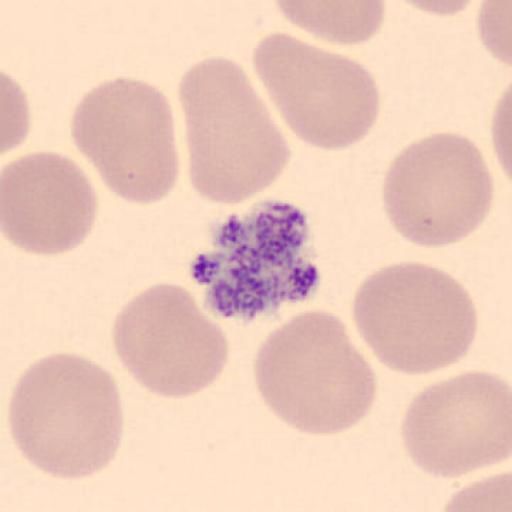Platelet: (195, 196, 323, 324)
RBC: (177, 56, 291, 205), (252, 307, 378, 438), (252, 31, 381, 152), (7, 350, 125, 481), (350, 259, 479, 377), (70, 75, 179, 206), (111, 282, 230, 401), (381, 130, 495, 250), (399, 370, 512, 478), (2, 150, 99, 256), (271, 0, 387, 47), (439, 471, 512, 512), (1, 69, 32, 157), (476, 0, 512, 68), (490, 83, 512, 186), (393, 0, 479, 18)
